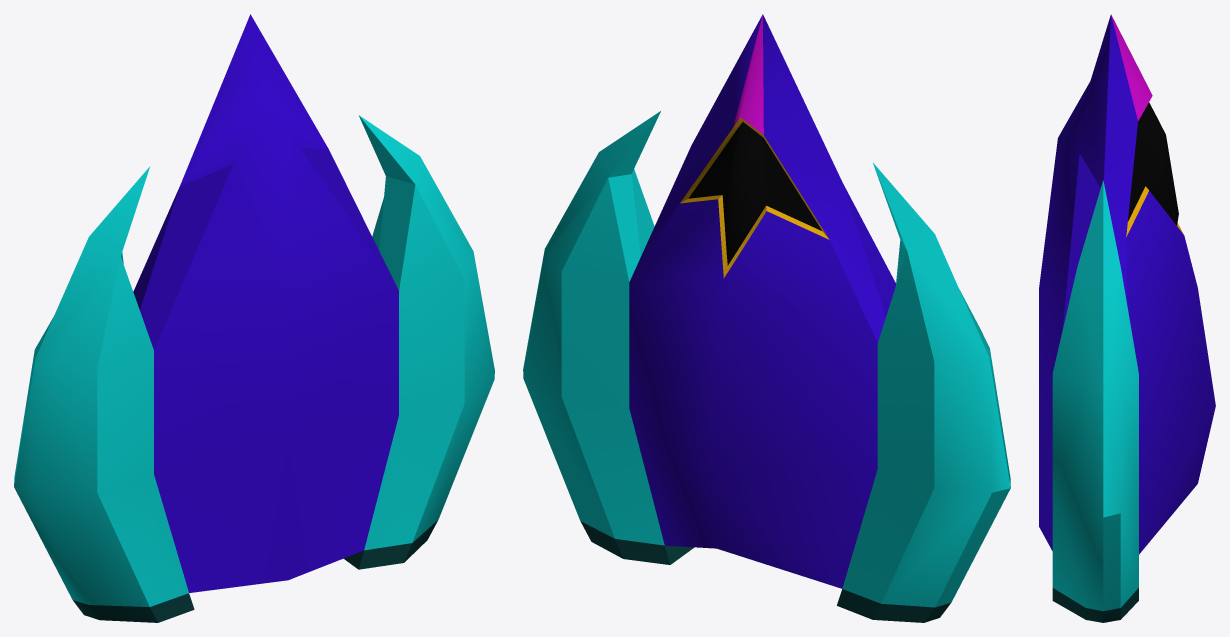
The model's file is Enemy_Stingray_v4.fbx.
3 renders of one model, left to right at view 1: azimuth 30°, elevation 25°; view 2: azimuth 150°, elevation 25°; view 3: azimuth 270°, elevation 25°, orthographic. The views are drawn at different scales.
Parts seen in each view (by area): view 1: Unknown; view 2: Unknown; view 3: Unknown.
Part boxes in pixels (x1,y1,x2,y2): Unknown: (14,14,494,622); Unknown: (523,14,1010,622); Unknown: (1039,14,1215,622).
Bounding box in the file's own units: 299 × 331 × 100.
